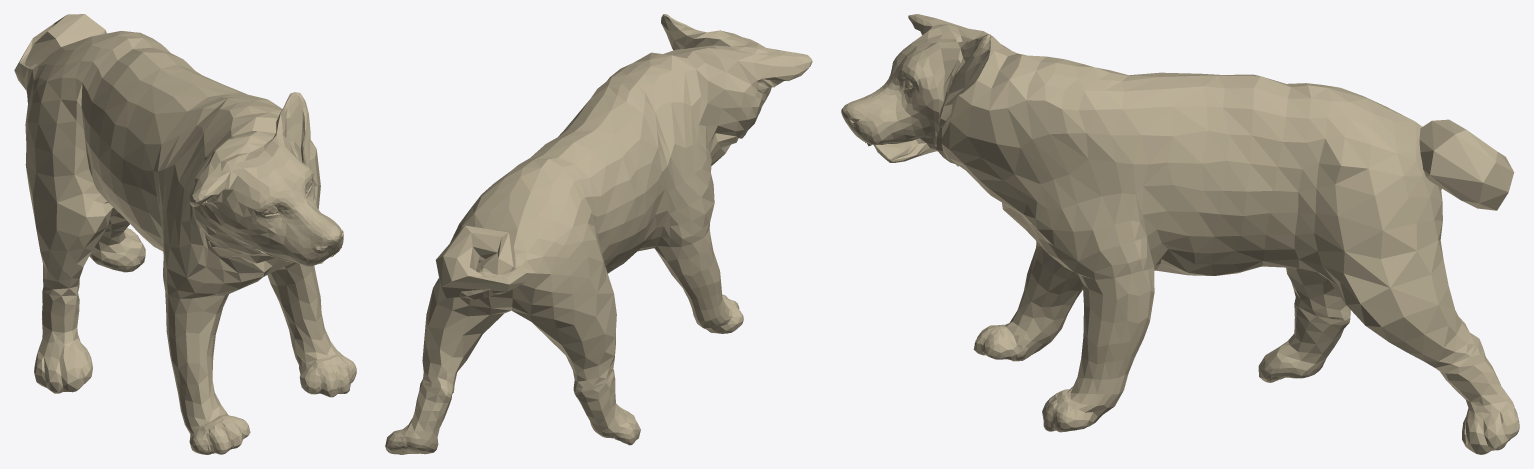
3 renders of one model, left to right at view 1: azimuth 30°, elevation 25°; view 2: azimuth 150°, elevation 25°; view 3: azimuth 270°, elevation 25°, orthographic. The views are drawn at different scales.
Parts seen in each view (by area): view 1: world; view 2: world; view 3: world.
Part boxes in pixels (x1,y1,x2,y2): world: (14,14,356,454); world: (385,14,812,454); world: (841,14,1519,454).
Size of the model in its own units: 0.5276 by 0.8143 by 1.27.
